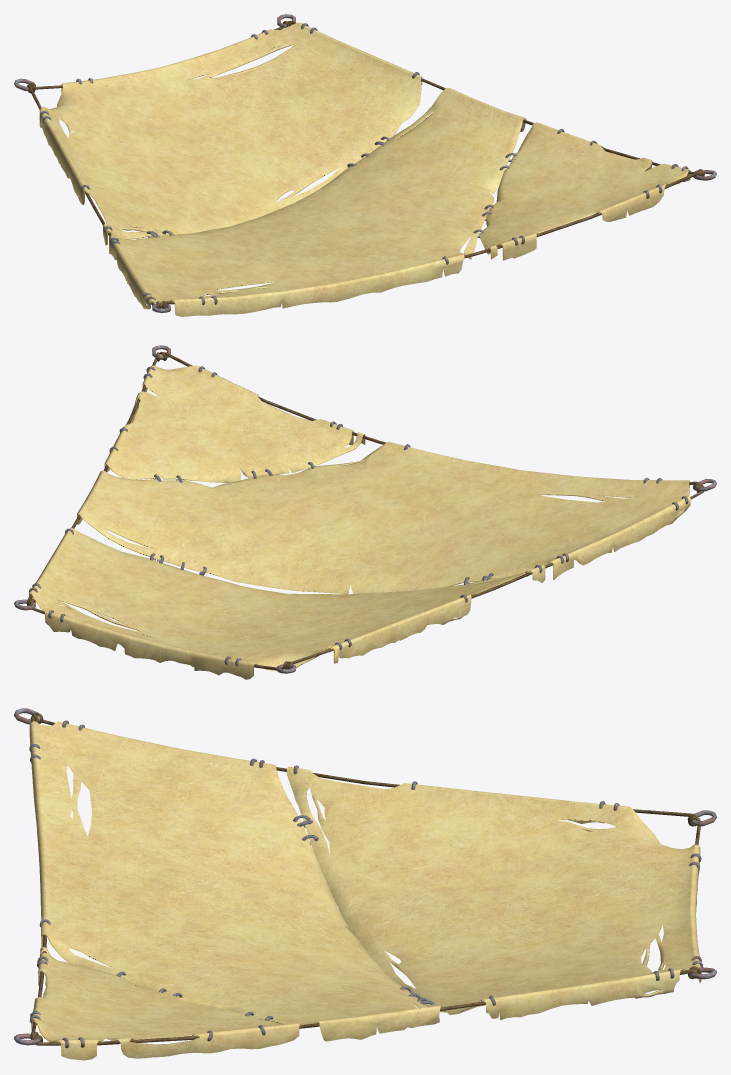
The picture shows the model from 3 angles, top to bottom: view 1: azimuth 30°, elevation 25°; view 2: azimuth 150°, elevation 25°; view 3: azimuth 270°, elevation 25°; orthographic projection. The views are drawn at different scales.
Parts seen in each view (by area): view 1: SM_Moon_Garou_Overhang_Trapezium_Small_Dmg_01v1_LOD0; view 2: SM_Moon_Garou_Overhang_Trapezium_Small_Dmg_01v1_LOD0; view 3: SM_Moon_Garou_Overhang_Trapezium_Small_Dmg_01v1_LOD0.
Part boxes in pixels (x1,y1,x2,y2): SM_Moon_Garou_Overhang_Trapezium_Small_Dmg_01v1_LOD0: [14, 14, 716, 316]; SM_Moon_Garou_Overhang_Trapezium_Small_Dmg_01v1_LOD0: [14, 345, 716, 679]; SM_Moon_Garou_Overhang_Trapezium_Small_Dmg_01v1_LOD0: [14, 708, 716, 1060].
Size of the model in its own units: 15.02 by 1.99 by 13.36.
3 materials, 3 textured.
